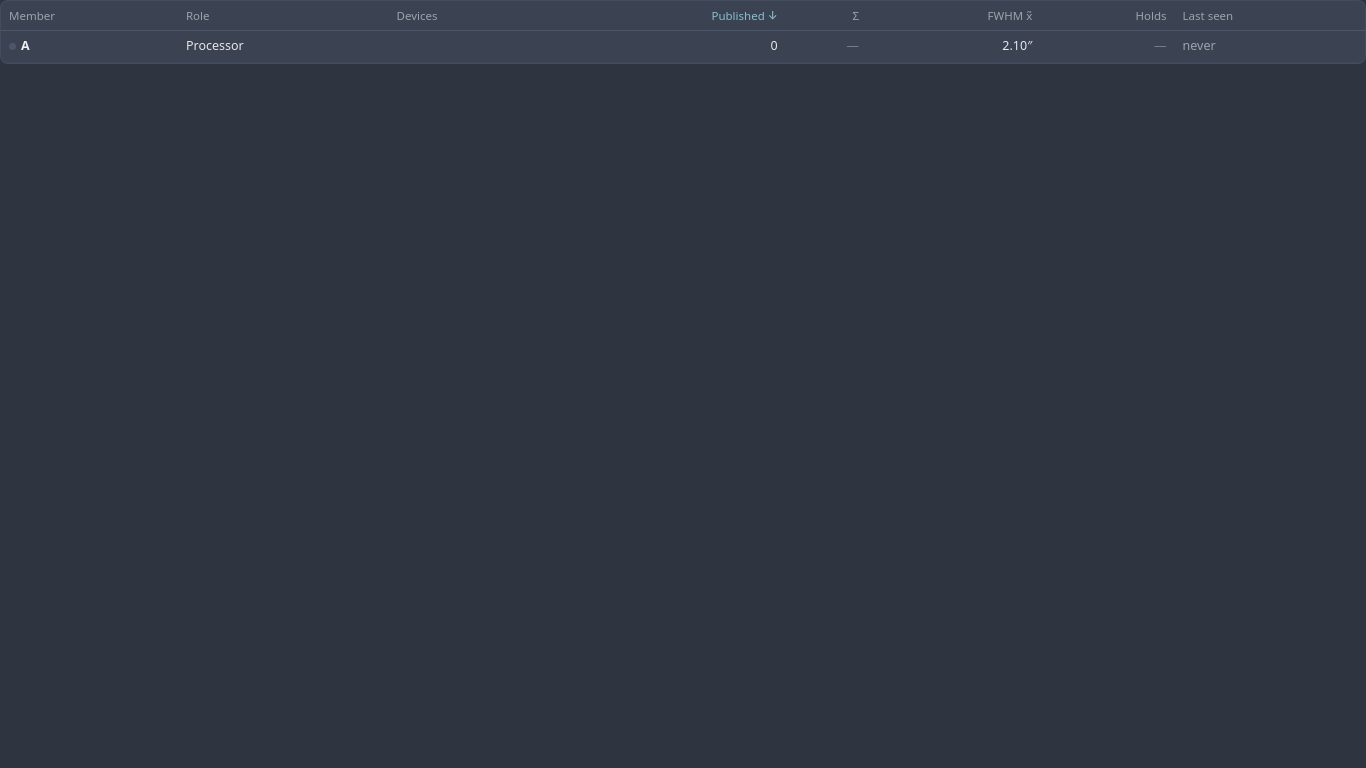
MembersTab — mockup table › labels an empty camera "Unknown camera" in the panel
What coordinates should you click on to do the following:
click the text "A"
I would click on:
 (25, 47)
Its box is [21, 37, 30, 56].
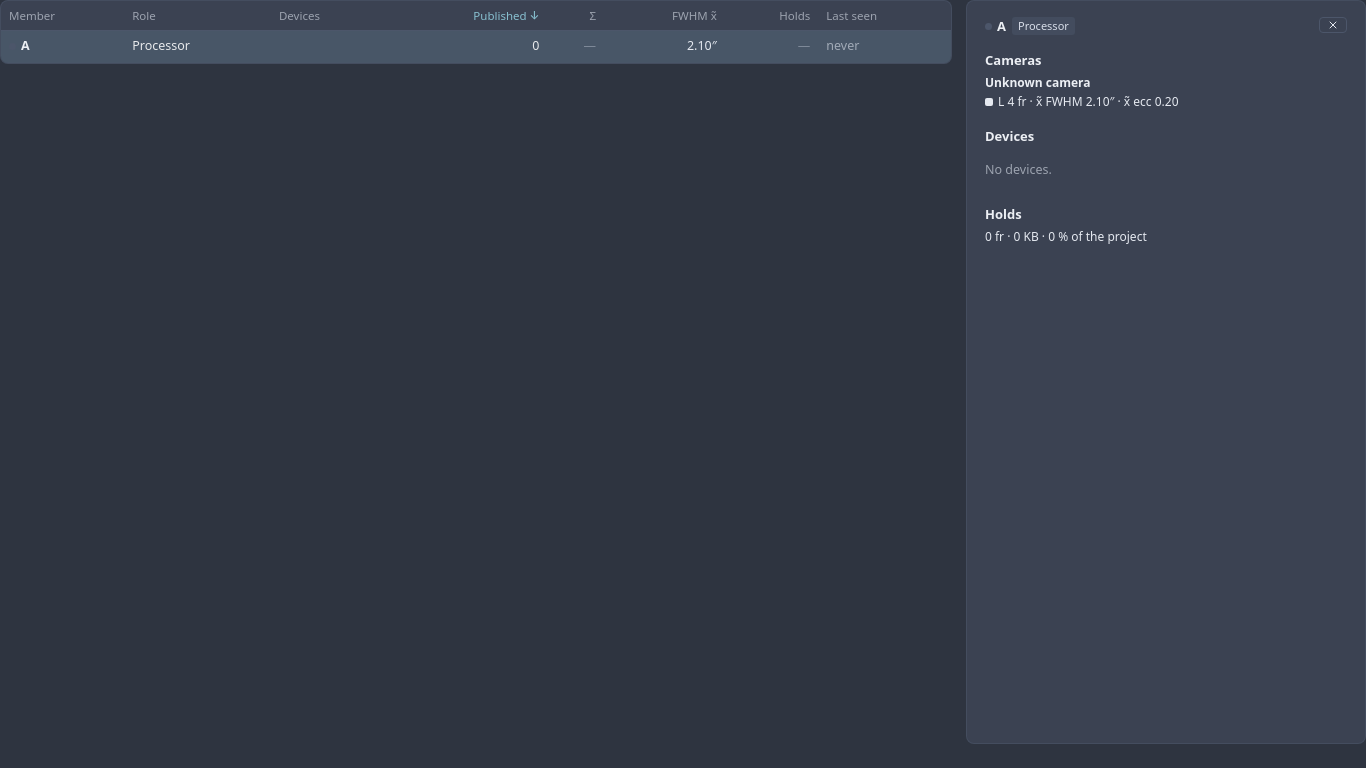
Expected: the text "Unknown camera" is shown, [985, 74, 1090, 91]
